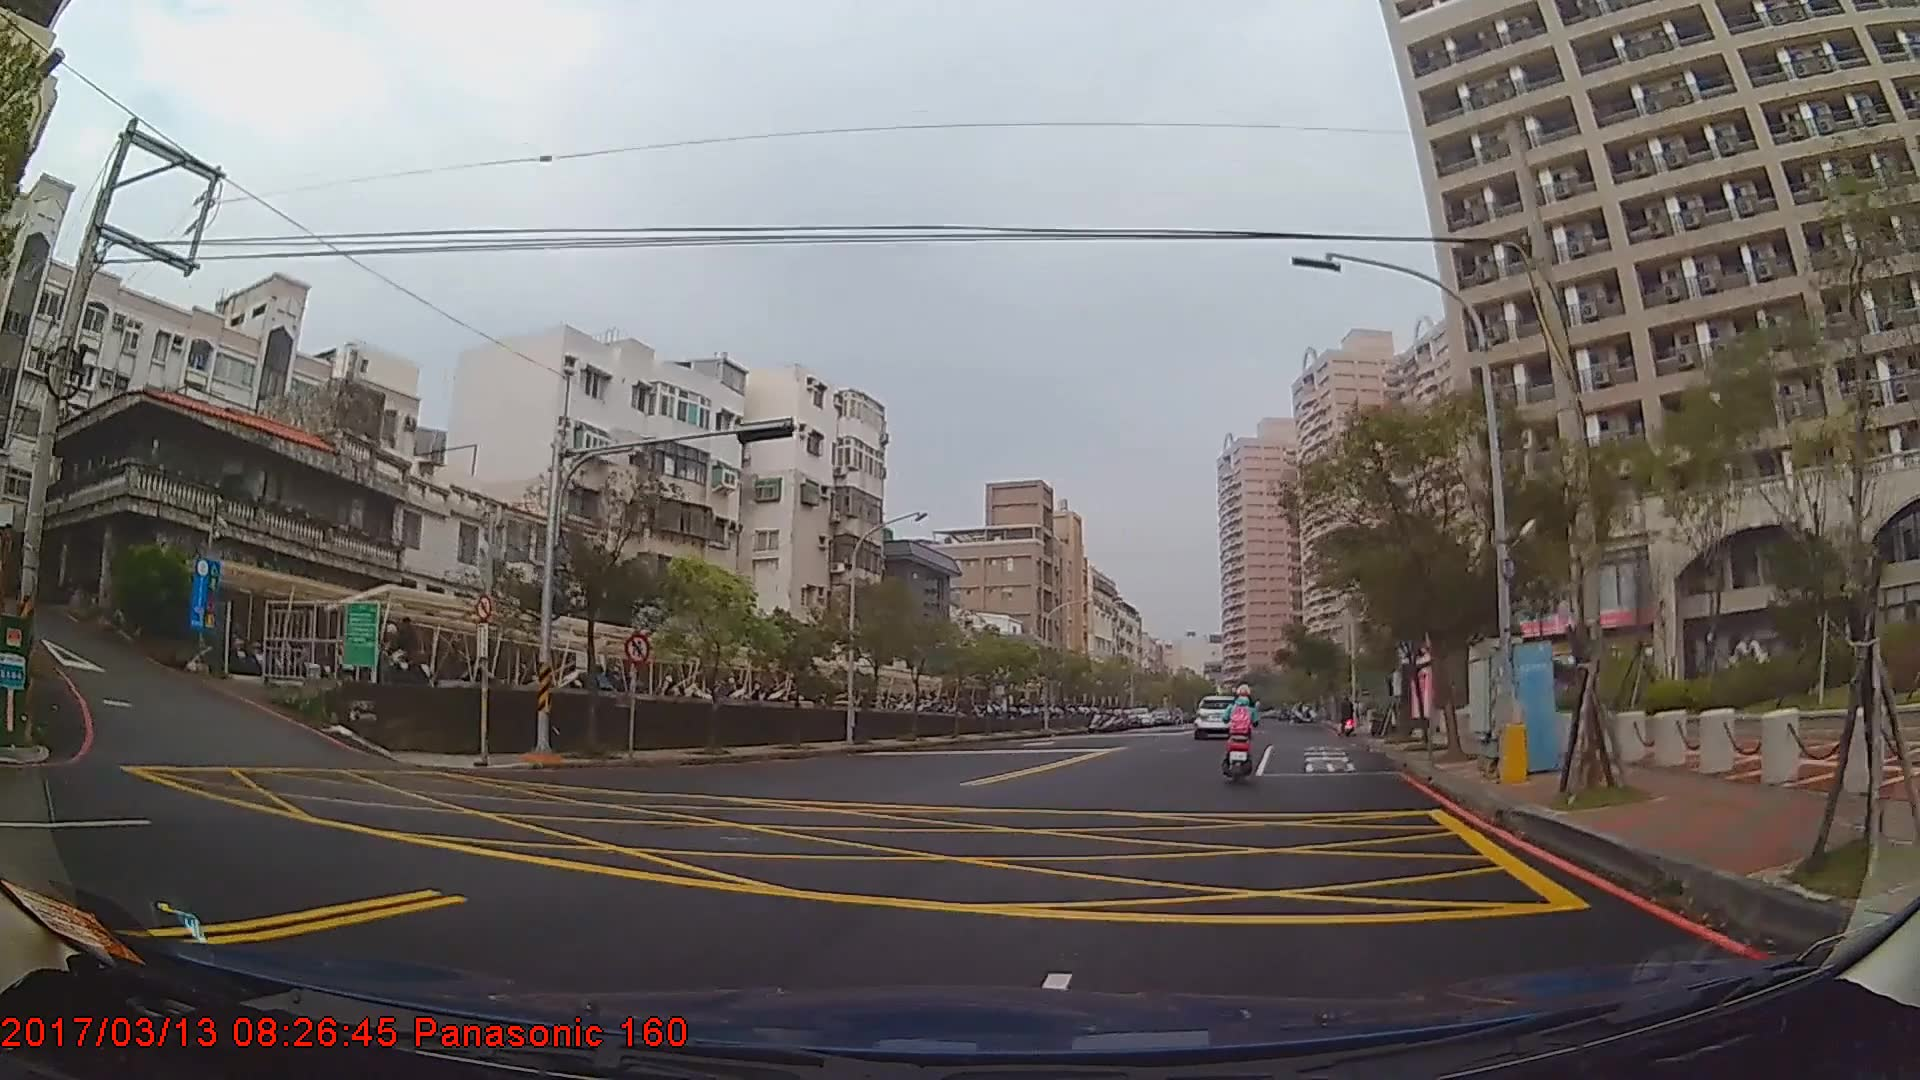rider: (1218, 681, 1265, 783)
vehicle: (1191, 691, 1236, 737)
